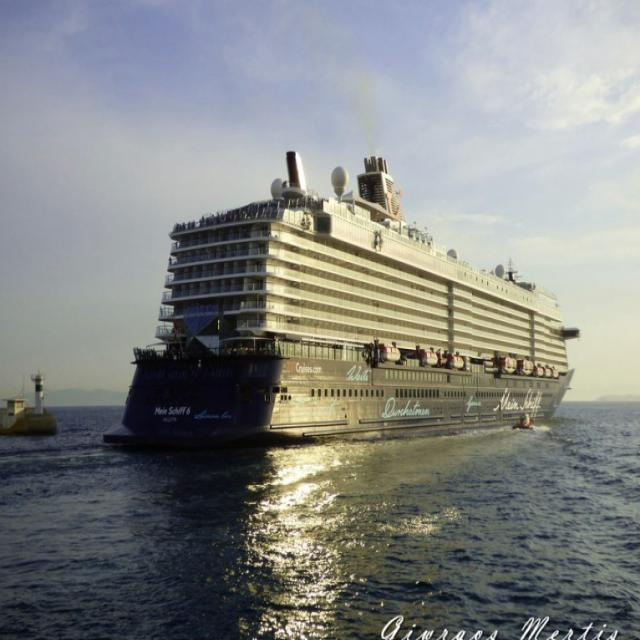cruises: (115, 122, 580, 452)
